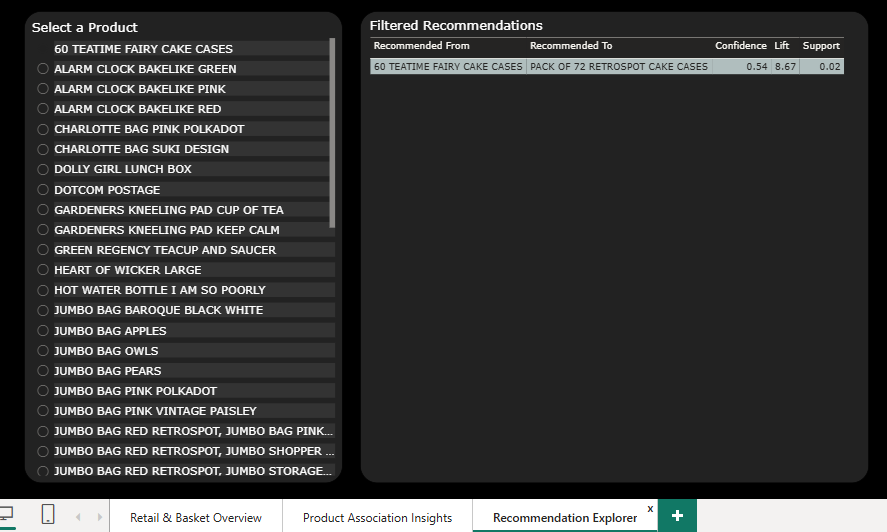

This screenshot's page, from the dashboard's own definition file:
{"tool":"powerbi","page":{"name":"Recommendation Explorer","canvas":[1280,720],"ordinal":2},"visuals":[{"type":"slicer","title":"Select a Product","fields":{"Values":["recommendation_rules.recommended_from"]},"box":[34.6,17.3,459.4,679.7],"z":0},{"type":"tableEx","title":"Filtered Recommendations","fields":{"Values":["recommendation_rules.recommended_from","recommendation_rules.recommended_to","Sum(recommendation_rules.confidence)","Sum(recommendation_rules.lift)","Sum(recommendation_rules.support)"]},"box":[518.4,17.3,733,679.7],"z":1000}]}

Visuals, with their boxes on the page's 1280x720 design canvas (x1, y1, x2, y2). These are canvas units, not pixel positions in the 887x532 screenshot, which may show the page scaled, cropped or inside an application window:
"Select a Product" slicer: <bbox>35, 17, 494, 697</bbox>
"Filtered Recommendations" tableEx: <bbox>518, 17, 1251, 697</bbox>
